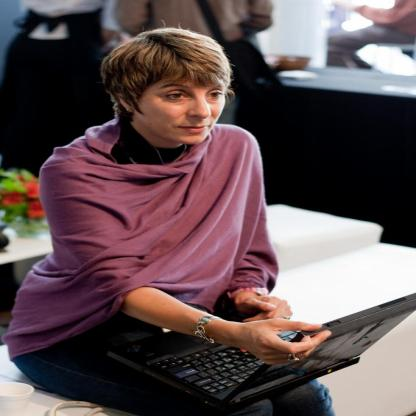board: (107, 292, 416, 407)
